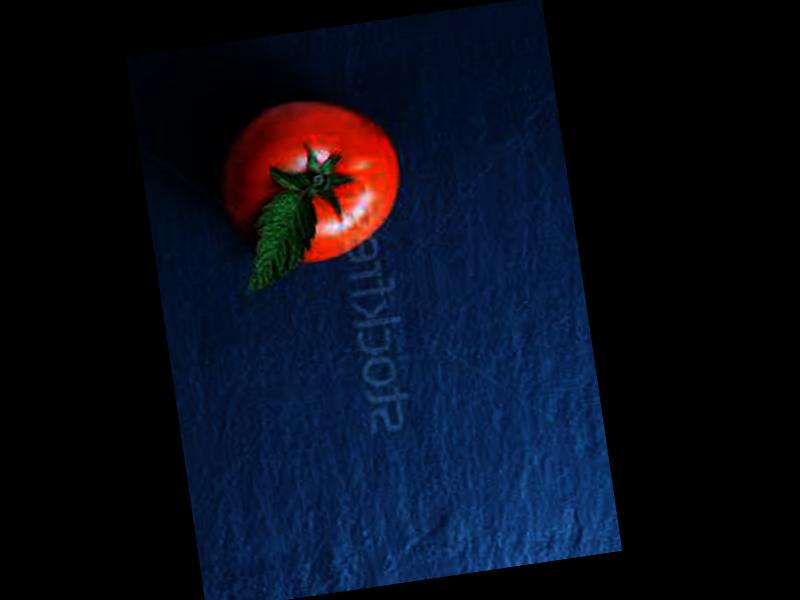Tomato: (212, 88, 410, 275)
